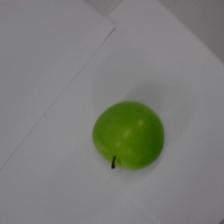green: (91, 99, 165, 171)
